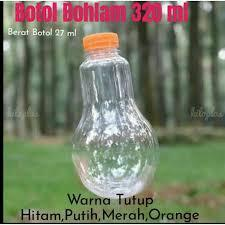BIODEGRADABLE: (65, 29, 176, 211)
